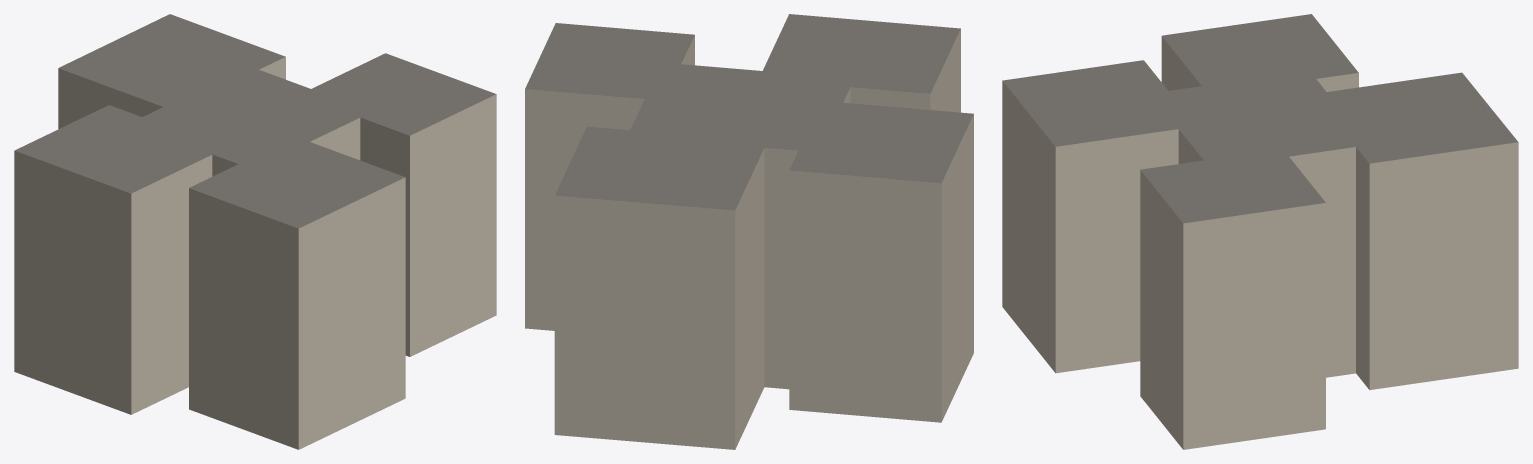
3 views of the same model, side by side, from view 1: azimuth 30°, elevation 25°; view 2: azimuth 150°, elevation 25°; view 3: azimuth 270°, elevation 25° (orthographic). The views are drawn at different scales.
Parts seen in each view (by area): view 1: HP-w1435252849; view 2: HP-w1435252849; view 3: HP-w1435252849.
Part boxes in pixels (bbox=[...]): HP-w1435252849: bbox=[14, 14, 496, 449]; HP-w1435252849: bbox=[525, 14, 973, 449]; HP-w1435252849: bbox=[1002, 14, 1518, 449].
Bounding box in the file's own units: 35.69 × 18 × 37.16.
